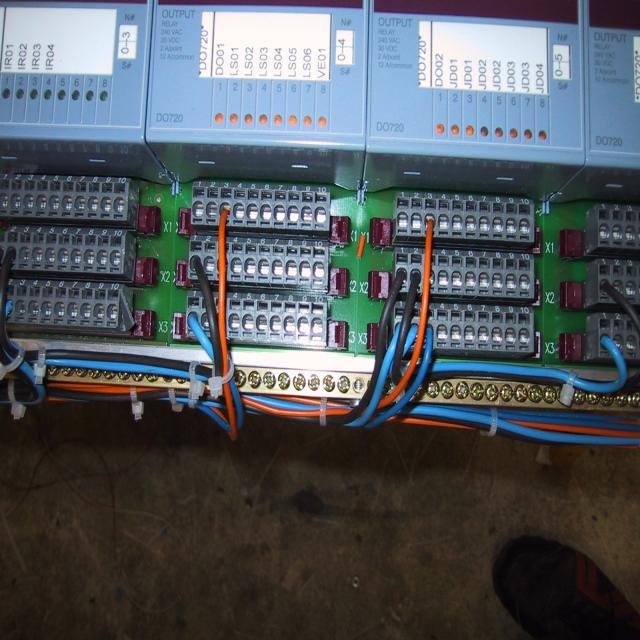Klemmenleiste: (0, 172, 158, 342), (388, 188, 540, 358), (185, 173, 340, 339), (562, 200, 639, 356)
SPS-System -Steuerungskomponente-: (367, 3, 585, 165), (145, 0, 368, 152), (1, 2, 154, 145), (584, 0, 640, 166)
